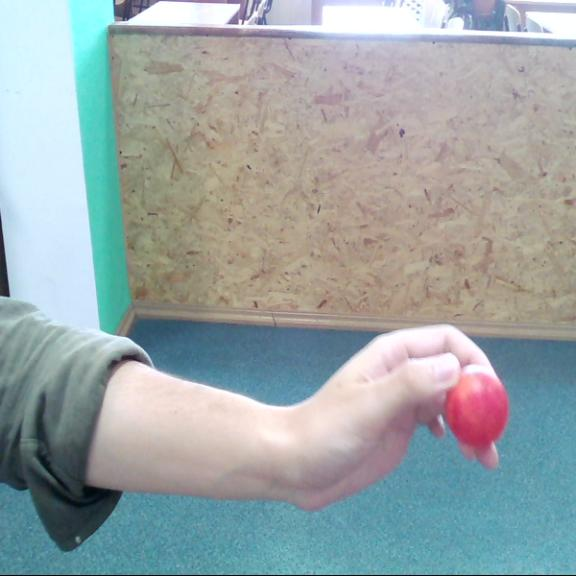ball: (446, 366, 509, 446)
